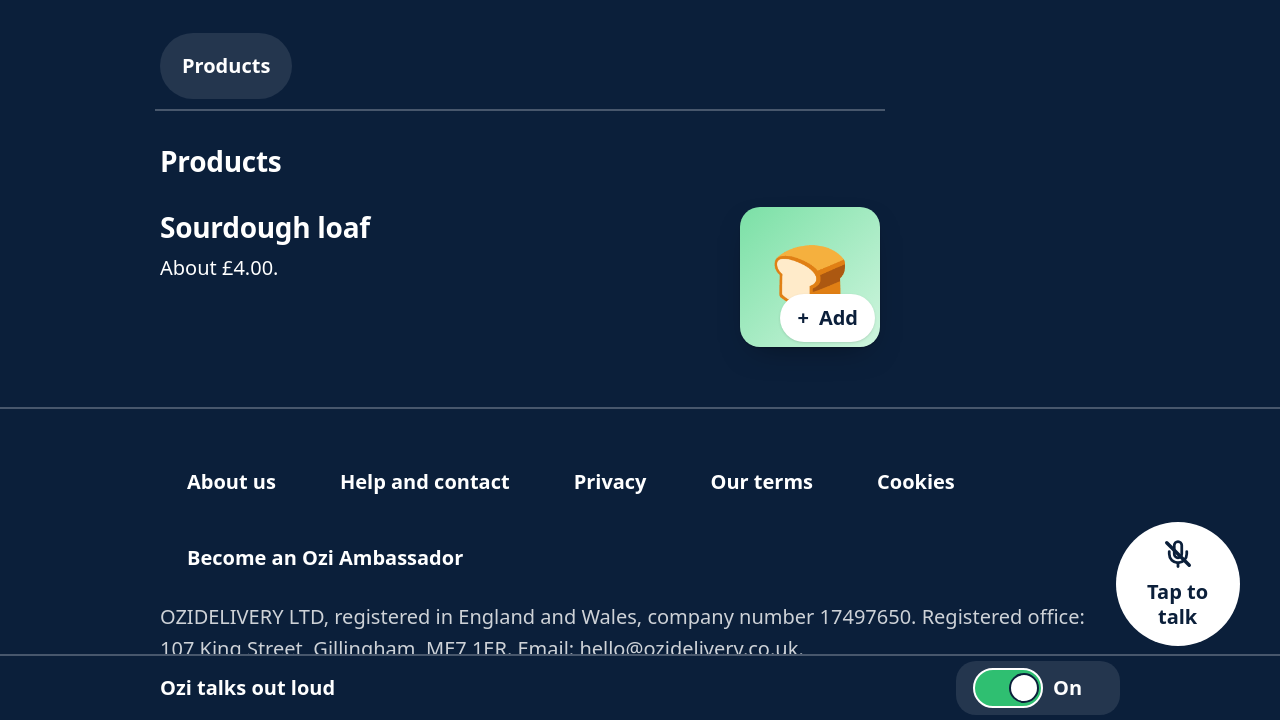
Test: a Shop Partner › a Shopper sees the shop’s page and adds its product to the basket
(page scrolled)
Click the button "+ Add" at x=828, y=318, box [780,294,875,342]
(page scrolled)
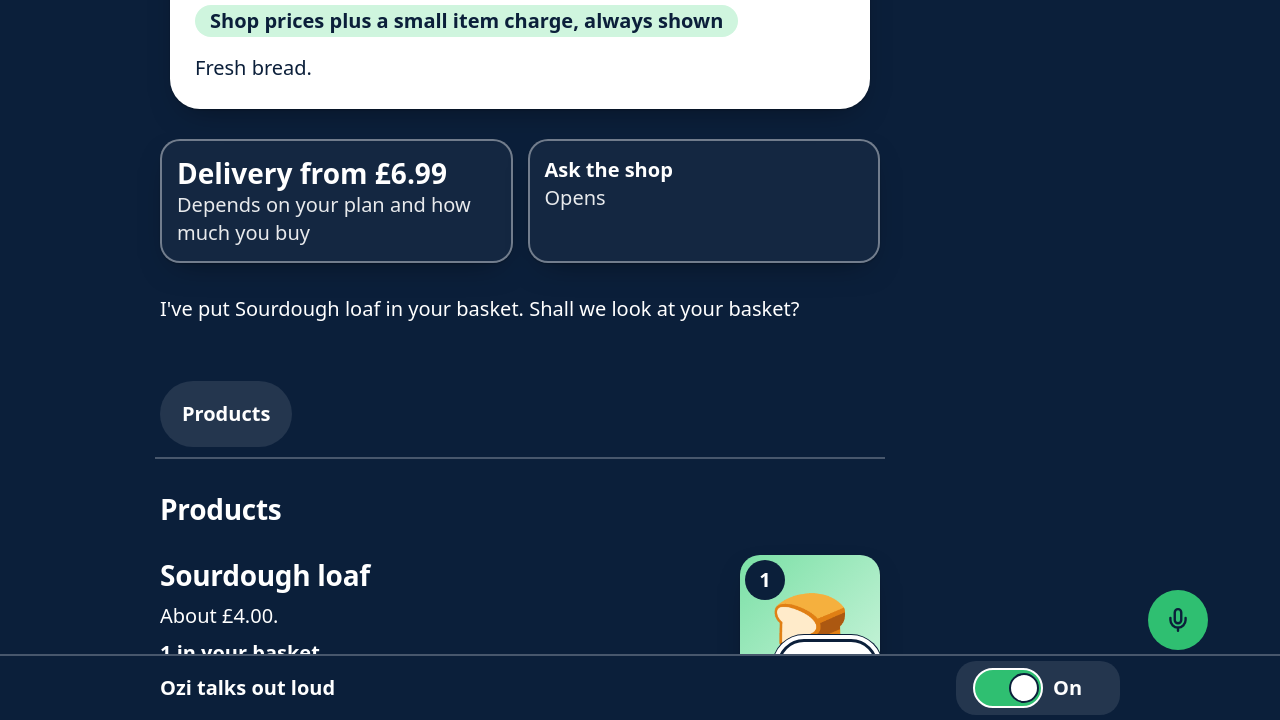
Check: the text "I've put Sourdough loaf in your basket. Shall we look at your basket?" is shown, box [160,295,799,322]
